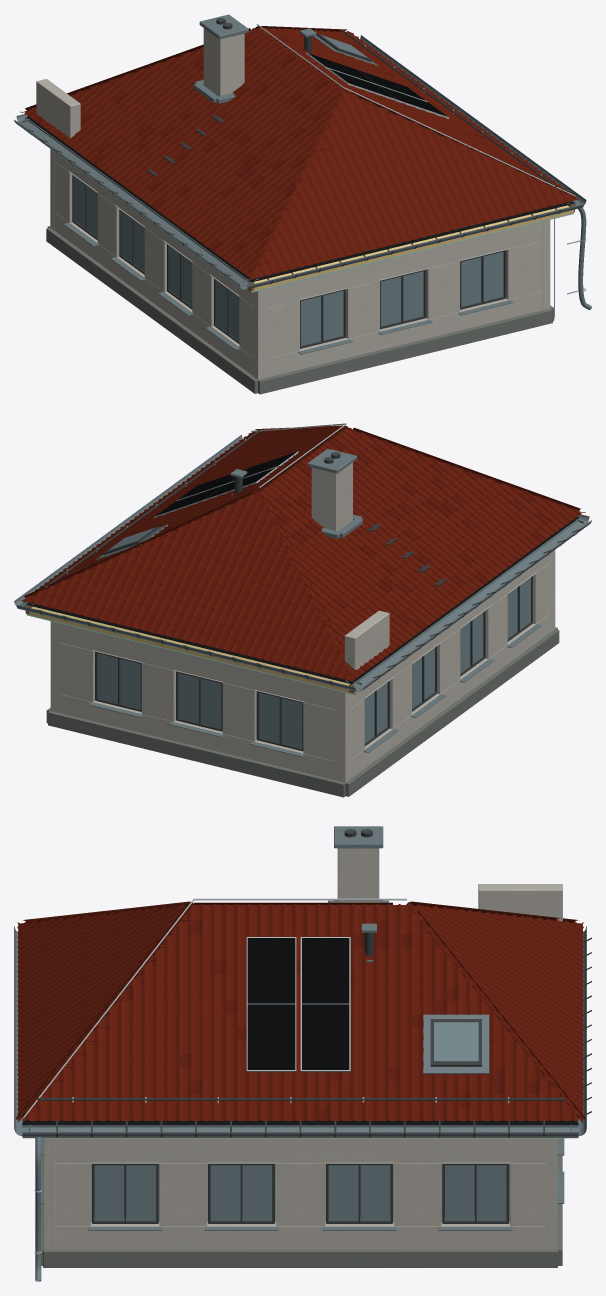
Rendered from uebersicht.glb.
3 renders of one model, top to bottom at view 1: azimuth 30°, elevation 25°; view 2: azimuth 150°, elevation 25°; view 3: azimuth 270°, elevation 25°, orthographic. The views are drawn at different scales.
Visible parts, largest first — view 1: Bauteil_s01_deckung, Bauteil_g02_tragwerk.001, Bauteil_w04_deckung, Bauteil_g02_tragwerk.004, Bauteil_g02_tragwerk, Bauteil_s03_deckung, Bauteil_s01_deckung.001, Bauteil_g02_tragwerk.003, Schornsteinschaft, Bauteil_g03_daemmung, Bauteil_s02_deckung, Bauteil_g01_zusatzebene (+10 smaller); view 2: Bauteil_s01_deckung, Bauteil_g02_tragwerk.001, Bauteil_w04_deckung, Bauteil_g02_tragwerk.004, Bauteil_g02_tragwerk, Bauteil_s03_deckung, Bauteil_s01_deckung.001, Bauteil_g02_tragwerk.003, Schornsteinschaft, Bauteil_g03_daemmung, Bauteil_s02_deckung, Bauteil_g01_zusatzebene (+7 smaller); view 3: Bauteil_s01_deckung, Bauteil_g02_tragwerk.001, Bauteil_w04_deckung, Bauteil_g02_tragwerk.004, Bauteil_a01_deckung.001, Bauteil_g02_tragwerk, Bauteil_s03_deckung, Bauteil_s01_deckung.001, Bauteil_g02_tragwerk.003, Bauteil_g01_zusatzebene, Bauteil_s02_deckung, Anschlusswand Nachbarbauteil (+13 smaller).
Boxes of the visible parts, x1,y1,x2,y2 form: Bauteil_s01_deckung: (24,27,575,278); Bauteil_g02_tragwerk.001: (50,149,550,379); Bauteil_w04_deckung: (20,27,579,279); Bauteil_g02_tragwerk.004: (74,177,503,345); Bauteil_g02_tragwerk: (46,226,554,394); Bauteil_s03_deckung: (14,35,586,289); Bauteil_s01_deckung.001: (35,31,484,253); Bauteil_g02_tragwerk.003: (72,175,506,348); Schornsteinschaft: (203,28,244,96); Bauteil_g03_daemmung: (251,205,574,291); Bauteil_s02_deckung: (19,118,580,286); Bauteil_g01_zusatzebene: (26,116,573,282); Bauteil_s01_deckung: (25,427,581,679); Bauteil_g02_tragwerk.001: (50,550,555,782); Bauteil_w04_deckung: (21,427,585,681); Bauteil_g02_tragwerk.004: (97,577,530,748); Bauteil_g02_tragwerk: (46,627,559,797); Bauteil_s03_deckung: (14,434,591,691); Bauteil_s01_deckung.001: (65,429,549,671); Bauteil_g02_tragwerk.003: (95,576,532,751); Schornsteinschaft: (311,462,352,531); Bauteil_g03_daemmung: (26,606,352,693); Bauteil_s02_deckung: (19,518,586,688); Bauteil_g01_zusatzebene: (26,516,579,684); Bauteil_s01_deckung: (22,904,578,1121); Bauteil_g02_tragwerk.001: (43,1138,557,1249); Bauteil_w04_deckung: (17,902,583,1122); Bauteil_g02_tragwerk.004: (94,1165,506,1220); Bauteil_a01_deckung.001: (247,938,349,1069); Bauteil_g02_tragwerk: (41,1155,562,1267); Bauteil_s03_deckung: (14,923,586,1136); Bauteil_s01_deckung.001: (96,906,548,1120); Bauteil_g02_tragwerk.003: (92,1164,509,1223); Bauteil_g01_zusatzebene: (22,921,578,1125); Bauteil_s02_deckung: (22,1121,578,1131); Anschlusswand Nachbarbauteil: (478,884,562,921).
Bounding box in the file's own units: 10.67 × 7.18 × 11.94.
14 materials, 6 textured.
